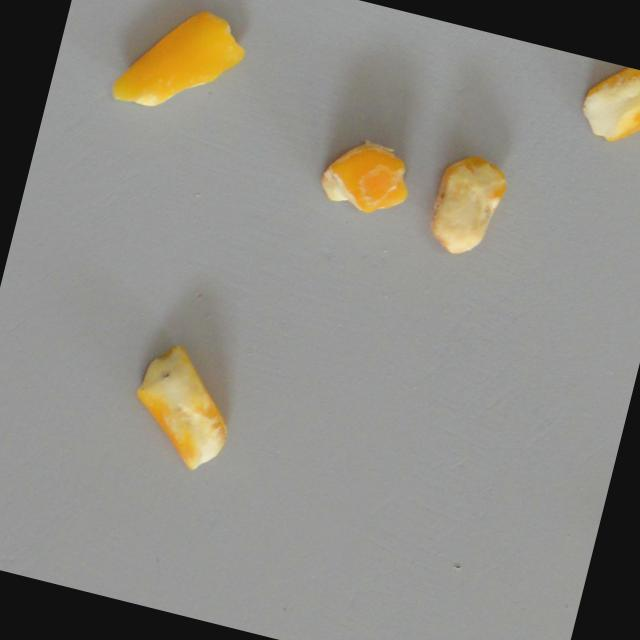dañado: (421, 146, 512, 261)
estandar: (107, 0, 253, 130)
pelicula: (313, 130, 418, 223)
punto_negro: (119, 335, 247, 476), (574, 58, 640, 151)
